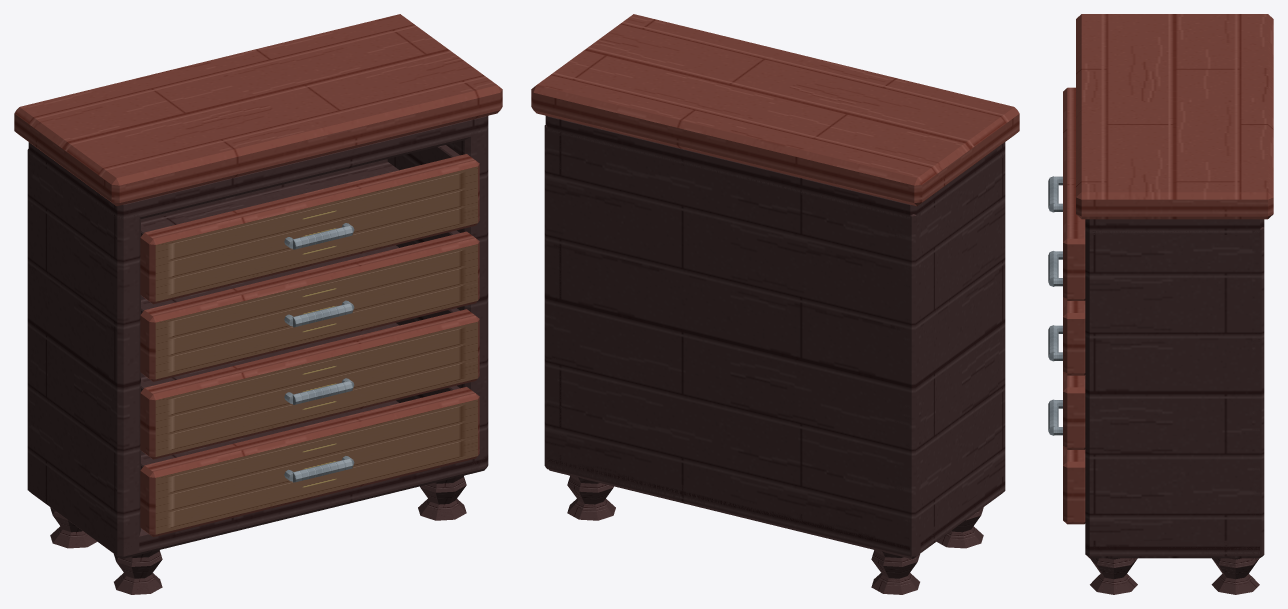
The model's file is MD_80_TallDresser.fbx.
3 views of the same model, side by side, from view 1: azimuth 30°, elevation 25°; view 2: azimuth 150°, elevation 25°; view 3: azimuth 270°, elevation 25° (orthographic). The views are drawn at different scales.
Visible parts, largest first — view 1: MD_80_TallDresser_cabinet_crown, MD_80_TallDresser_cabinet_side, MD_80_TallDresser_sliding_drawer.001, MD_80_TallDresser_sliding_drawer.003, MD_80_TallDresser_sliding_drawer, MD_80_TallDresser_sliding_drawer.002, MD_80_TallDresser_cabinet_shelf.001, MD_80_TallDresser_cabinet_shelf, MD_80_TallDresser_cabinet_side.001, MD_80_TallDresser_drawer_tray_floor.003, MD_80_TallDresser_turned_leg, MD_80_TallDresser_turned_leg.002 (+11 smaller); view 2: MD_80_TallDresser_cabinet_back, MD_80_TallDresser_cabinet_crown, MD_80_TallDresser_cabinet_side, MD_80_TallDresser_cabinet_shelf, MD_80_TallDresser_cabinet_shelf.001, MD_80_TallDresser_turned_leg.001, MD_80_TallDresser_turned_leg.003, MD_80_TallDresser_turned_leg, MD_80_TallDresser_cabinet_side.001; view 3: MD_80_TallDresser_cabinet_side.001, MD_80_TallDresser_cabinet_crown, MD_80_TallDresser_cabinet_back, MD_80_TallDresser_sliding_drawer.003, MD_80_TallDresser_cabinet_shelf, MD_80_TallDresser_cabinet_shelf.001, MD_80_TallDresser_sliding_drawer, MD_80_TallDresser_sliding_drawer.001, MD_80_TallDresser_sliding_drawer.002, MD_80_TallDresser_turned_leg.003, MD_80_TallDresser_turned_leg.002, MD_80_TallDresser_drawer_handle_grip.003 (+3 smaller).
Boxes of the visible parts, x1=… form: MD_80_TallDresser_cabinet_crown: x1=14, y1=14, x2=502, y2=206; MD_80_TallDresser_cabinet_side: x1=28, y1=158, x2=140, y2=554; MD_80_TallDresser_sliding_drawer.001: x1=140, y1=309, x2=479, y2=459; MD_80_TallDresser_sliding_drawer.003: x1=140, y1=154, x2=479, y2=304; MD_80_TallDresser_sliding_drawer: x1=140, y1=387, x2=479, y2=536; MD_80_TallDresser_sliding_drawer.002: x1=140, y1=231, x2=479, y2=381; MD_80_TallDresser_cabinet_shelf.001: x1=28, y1=116, x2=488, y2=221; MD_80_TallDresser_cabinet_shelf: x1=29, y1=450, x2=488, y2=558; MD_80_TallDresser_cabinet_side.001: x1=446, y1=128, x2=488, y2=469; MD_80_TallDresser_drawer_tray_floor.003: x1=141, y1=161, x2=398, y2=230; MD_80_TallDresser_turned_leg: x1=114, y1=550, x2=162, y2=594; MD_80_TallDresser_turned_leg.002: x1=418, y1=475, x2=466, y2=520; MD_80_TallDresser_cabinet_back: x1=544, y1=124, x2=920, y2=558; MD_80_TallDresser_cabinet_crown: x1=531, y1=14, x2=1019, y2=206; MD_80_TallDresser_cabinet_side: x1=894, y1=154, x2=1005, y2=547; MD_80_TallDresser_cabinet_shelf: x1=547, y1=453, x2=1005, y2=558; MD_80_TallDresser_cabinet_shelf.001: x1=545, y1=116, x2=1005, y2=221; MD_80_TallDresser_turned_leg.001: x1=871, y1=550, x2=919, y2=594; MD_80_TallDresser_turned_leg.003: x1=567, y1=475, x2=615, y2=520; MD_80_TallDresser_turned_leg: x1=936, y1=507, x2=983, y2=548; MD_80_TallDresser_cabinet_side.001: x1=547, y1=137, x2=562, y2=465; MD_80_TallDresser_cabinet_side.001: x1=1085, y1=229, x2=1259, y2=554; MD_80_TallDresser_cabinet_crown: x1=1076, y1=14, x2=1273, y2=219; MD_80_TallDresser_cabinet_back: x1=1252, y1=227, x2=1264, y2=557; MD_80_TallDresser_sliding_drawer.003: x1=1063, y1=87, x2=1085, y2=300; MD_80_TallDresser_cabinet_shelf: x1=1085, y1=539, x2=1260, y2=558; MD_80_TallDresser_cabinet_shelf.001: x1=1085, y1=219, x2=1264, y2=234; MD_80_TallDresser_sliding_drawer: x1=1063, y1=446, x2=1085, y2=524; MD_80_TallDresser_sliding_drawer.001: x1=1063, y1=372, x2=1085, y2=449; MD_80_TallDresser_sliding_drawer.002: x1=1063, y1=297, x2=1085, y2=375; MD_80_TallDresser_turned_leg.003: x1=1211, y1=558, x2=1259, y2=594; MD_80_TallDresser_turned_leg.002: x1=1090, y1=558, x2=1137, y2=594; MD_80_TallDresser_drawer_handle_grip.003: x1=1048, y1=176, x2=1058, y2=212.
Bounding box in the file's own units: 1.16 × 1.22 × 0.604.
Materials: 4 (4 with a texture image).
